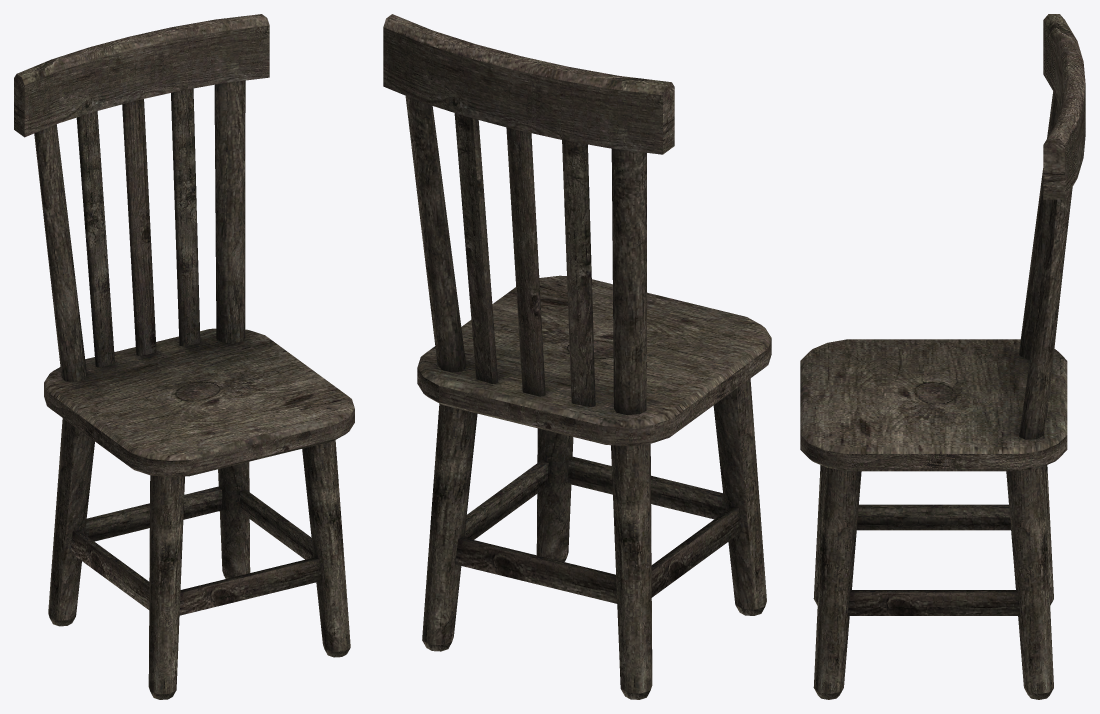
Rendered from kitchenchair2.obj.
3 renders of one model, left to right at view 1: azimuth 30°, elevation 25°; view 2: azimuth 150°, elevation 25°; view 3: azimuth 270°, elevation 25°, orthographic. The views are drawn at different scales.
Parts seen in each view (by area): view 1: Model001_4_Material168_1.0_0.0_0.0; view 2: Model001_4_Material168_1.0_0.0_0.0; view 3: Model001_4_Material168_1.0_0.0_0.0.
Part boxes in pixels (<box>): Model001_4_Material168_1.0_0.0_0.0: <box>14,14,354,699</box>; Model001_4_Material168_1.0_0.0_0.0: <box>383,14,771,699</box>; Model001_4_Material168_1.0_0.0_0.0: <box>800,14,1085,699</box>.
Bounding box in the file's own units: 0.4524 × 0.9689 × 0.4357.
